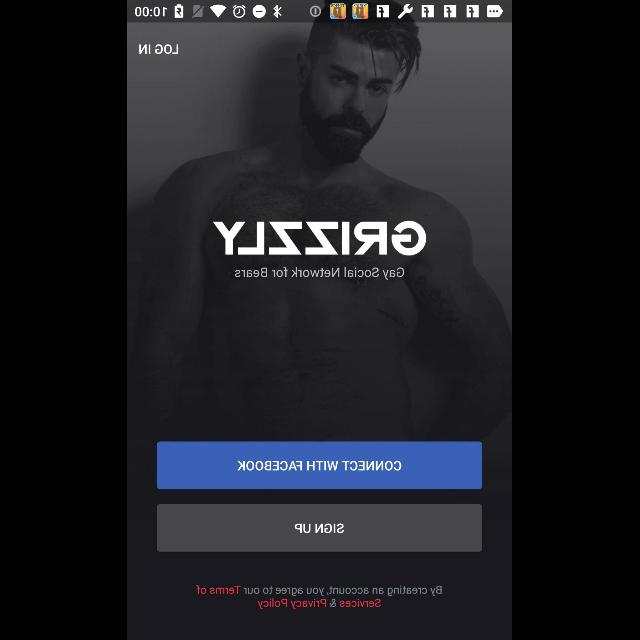backgroundimage: (128, 22, 512, 640)
text: (213, 221, 427, 255), (197, 585, 443, 609), (236, 268, 404, 280), (140, 44, 178, 54)
textbutton: (158, 504, 482, 552), (158, 441, 482, 489)
uppertaskbar: (128, 1, 512, 23)
